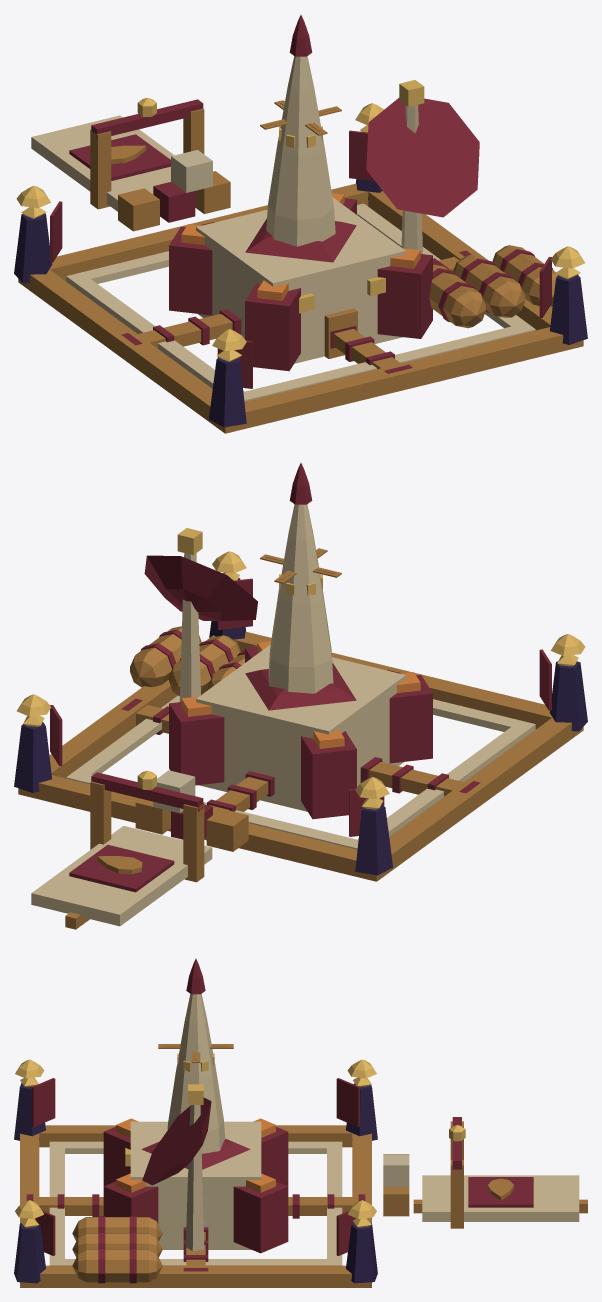
File: kiln_station.gltf
3 views of the same model, one above another, from view 1: azimuth 30°, elevation 25°; view 2: azimuth 150°, elevation 25°; view 3: azimuth 270°, elevation 25° (orthographic). The views are drawn at different scales.
Parts seen in each view (by area): view 1: quay, core, mast, kilns, chimney, corner_lamps, quay_deck, tanks, struts, panel, banners, mark (+9 smaller); view 2: quay, core, kilns, corner_lamps, chimney, mast, panel, quay_deck, struts, tanks, banners, mark (+8 smaller); view 3: quay, core, kilns, corner_lamps, tanks, quay_deck, panel, mast, chimney, banners, struts, mark (+4 smaller).
Boxes of the visible parts, box(x1,y1,x2,y2) form: quay: box(18, 183, 583, 433); core: box(196, 197, 405, 363); mast: box(366, 80, 479, 253); kilns: box(169, 198, 432, 371); chimney: box(266, 15, 335, 246); corner_lamps: box(14, 103, 587, 427); quay_deck: box(66, 203, 535, 401); tanks: box(429, 245, 557, 328); struts: box(121, 222, 471, 373); panel: box(31, 115, 174, 211); banners: box(50, 130, 551, 388); mark: box(69, 134, 170, 180); quay: box(18, 631, 583, 881); core: box(196, 644, 405, 811); kilns: box(169, 646, 432, 819); corner_lamps: box(14, 551, 587, 875); chimney: box(268, 463, 333, 693); mast: box(144, 528, 257, 701); panel: box(31, 826, 212, 929); quay_deck: box(66, 695, 535, 849); struts: box(121, 670, 480, 814); tanks: box(130, 626, 256, 696); banners: box(50, 578, 551, 836); mark: box(69, 845, 174, 892); quay: box(20, 1125, 371, 1287); core: box(125, 1121, 261, 1249); kilns: box(103, 1126, 288, 1253); corner_lamps: box(14, 1059, 377, 1283); tanks: box(72, 1216, 162, 1283); quay_deck: box(49, 1141, 342, 1265); panel: box(413, 1175, 587, 1221); mast: box(142, 1084, 211, 1252); chimney: box(167, 958, 225, 1153); banners: box(31, 1078, 359, 1255); struts: box(26, 1194, 365, 1271); mark: box(468, 1177, 533, 1207).
Size of the model in its own units: 8.69 by 6.69 by 13.18.
